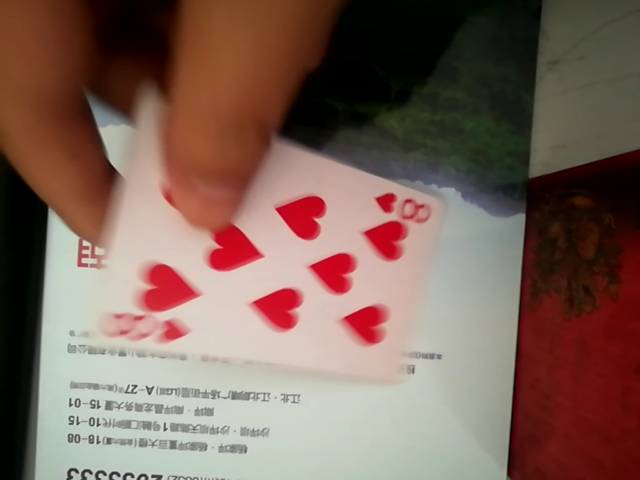hx 8: (95, 139, 452, 376)
